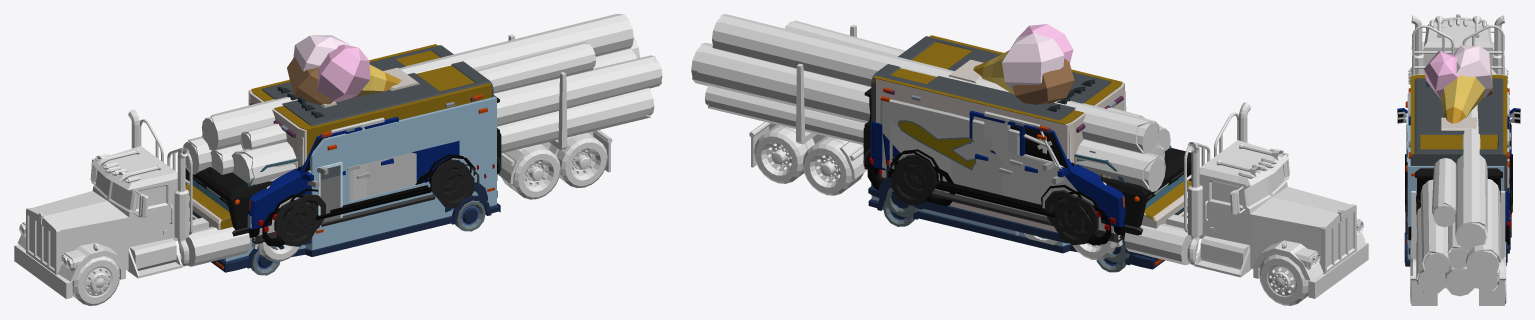
The model's file is Vehicles.fbx.
3 renders of one model, left to right at view 1: azimuth 30°, elevation 25°; view 2: azimuth 150°, elevation 25°; view 3: azimuth 270°, elevation 25°, orthographic. The views are drawn at different scales.
Parts seen in each view (by area): view 1: Truck, IceCream-Truck, PickupV2, Post-Truck, EL-Truck_TireFR, MinivanV2, PickupV1_TireBL, SuvV1, Ambulance-Truck; view 2: Truck, MinivanV2, IceCream-Truck, PickupV1_TireBL, Ambulance-Truck, PickupV2, EL-Truck_TireFR, Post-Truck, SuvV1; view 3: Truck, IceCream-Truck, EL-Truck_TireFR, Post-Truck, SuvV1, PickupV1_TireBL, PickupV2, Ambulance-Truck, MinivanV2.
Boxes of the visible parts, box(x1,y1,x2,y2) form: Truck: box(14, 14, 662, 305); IceCream-Truck: box(211, 35, 500, 275); PickupV2: box(248, 86, 494, 240); Post-Truck: box(185, 44, 491, 243); EL-Truck_TireFR: box(189, 45, 497, 221); MinivanV2: box(252, 152, 486, 246); PickupV1_TireBL: box(267, 117, 478, 233); SuvV1: box(185, 95, 501, 246); Ambulance-Truck: box(189, 67, 482, 260); Truck: box(691, 14, 1368, 305); MinivanV2: box(878, 97, 1122, 245); IceCream-Truck: box(868, 24, 1164, 272); PickupV1_TireBL: box(886, 111, 1106, 231); Ambulance-Truck: box(873, 59, 1187, 262); PickupV2: box(869, 79, 1125, 238); EL-Truck_TireFR: box(868, 36, 1183, 259); Post-Truck: box(870, 35, 1191, 260); SuvV1: box(863, 88, 1191, 245); Truck: box(1408, 14, 1508, 305); IceCream-Truck: box(1404, 45, 1507, 266); EL-Truck_TireFR: box(1408, 78, 1510, 254); Post-Truck: box(1408, 75, 1509, 159); SuvV1: box(1408, 168, 1509, 244); PickupV1_TireBL: box(1397, 92, 1520, 216); PickupV2: box(1397, 81, 1520, 227); Ambulance-Truck: box(1408, 74, 1509, 152); MinivanV2: box(1397, 117, 1520, 237).
Bounding box in the file's own units: 501 × 155 × 102.
2 materials, 1 textured.
